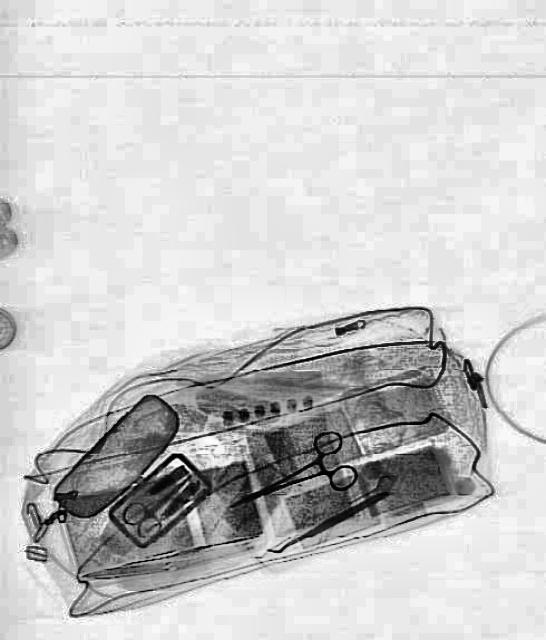Scissors: (218, 424, 360, 536), (118, 456, 204, 546)
